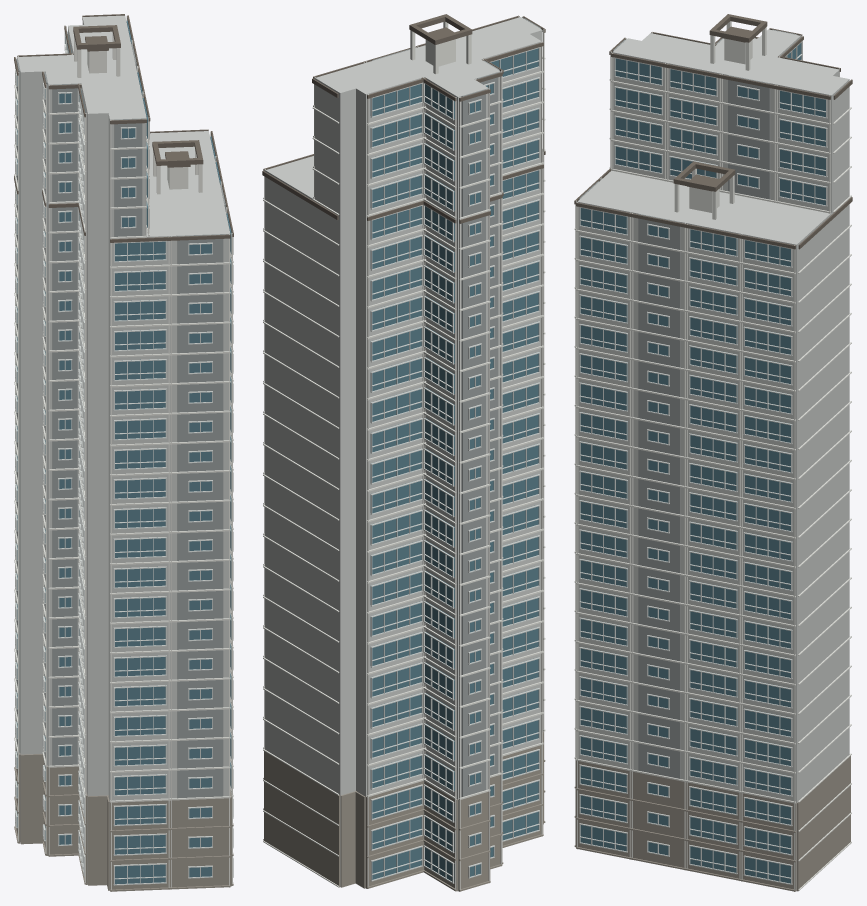
File: bespoke-banpo-xi-144.glb
The picture shows the model from 3 angles, left to right: view 1: azimuth 30°, elevation 25°; view 2: azimuth 150°, elevation 25°; view 3: azimuth 270°, elevation 25°; orthographic projection. The views are drawn at different scales.
Visible parts, largest first — view 1: editable_BX144_pale_silver_limestone, editable_BX144_grey_service_core, editable_BX144_blue_grey_broad_glazing, editable_BX144_ivory_course_bands, editable_BX144_white_window_frames, editable_BX144_warm_ground_stone, editable_BX144_dark_coping; view 2: editable_BX144_pale_silver_limestone, editable_BX144_blue_grey_broad_glazing, editable_BX144_white_window_frames, editable_BX144_ivory_course_bands, editable_BX144_grey_service_core, editable_BX144_warm_ground_stone, editable_BX144_dark_coping; view 3: editable_BX144_pale_silver_limestone, editable_BX144_blue_grey_broad_glazing, editable_BX144_white_window_frames, editable_BX144_ivory_course_bands, editable_BX144_grey_service_core, editable_BX144_warm_ground_stone, editable_BX144_dark_coping.
Boxes of the visible parts, x1,y1,x2,y2 form: editable_BX144_pale_silver_limestone: [17, 15, 230, 889]; editable_BX144_grey_service_core: [16, 44, 225, 798]; editable_BX144_blue_grey_broad_glazing: [16, 20, 231, 884]; editable_BX144_ivory_course_bands: [14, 15, 233, 891]; editable_BX144_white_window_frames: [15, 31, 233, 885]; editable_BX144_warm_ground_stone: [14, 747, 233, 891]; editable_BX144_dark_coping: [14, 14, 233, 242]; editable_BX144_pale_silver_limestone: [265, 17, 542, 890]; editable_BX144_blue_grey_broad_glazing: [370, 48, 538, 882]; editable_BX144_white_window_frames: [370, 47, 539, 883]; editable_BX144_ivory_course_bands: [263, 16, 545, 891]; editable_BX144_grey_service_core: [371, 18, 541, 796]; editable_BX144_warm_ground_stone: [263, 731, 545, 891]; editable_BX144_dark_coping: [262, 14, 545, 223]; editable_BX144_pale_silver_limestone: [577, 29, 849, 890]; editable_BX144_blue_grey_broad_glazing: [580, 43, 825, 883]; editable_BX144_white_window_frames: [579, 41, 827, 884]; editable_BX144_ivory_course_bands: [574, 21, 851, 891]; editable_BX144_grey_service_core: [579, 29, 797, 778]; editable_BX144_warm_ground_stone: [574, 756, 850, 891]; editable_BX144_dark_coping: [574, 14, 852, 249].
Bounding box in the file's own units: 19.74 × 72.9 × 23.1.
